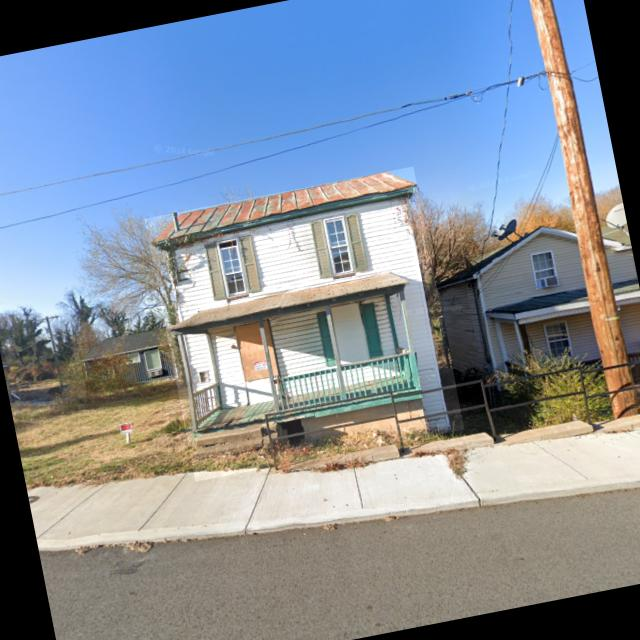House: (144, 166, 464, 482), (425, 208, 640, 418), (77, 326, 185, 396)
